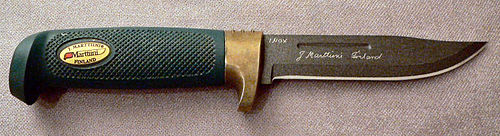knief: (8, 22, 492, 111)
